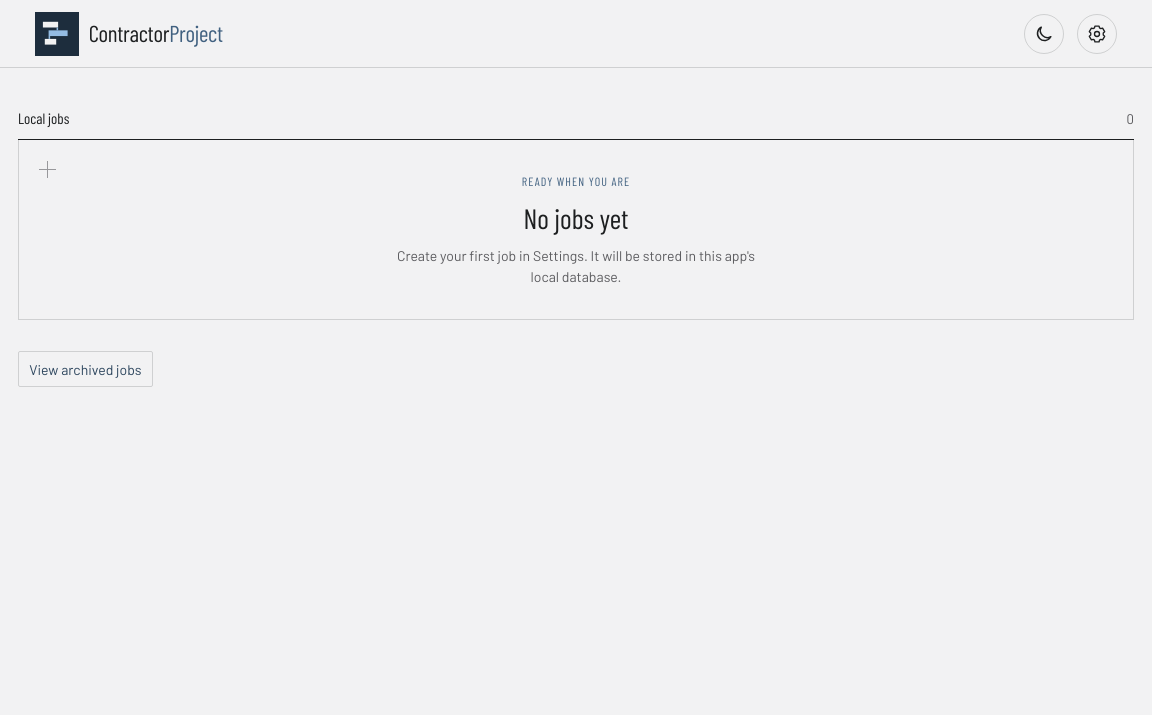
Scenario: task workspace › opens a newly created job directly to Add task and actionable schedule setup
The image size is (1152, 715).
Click the button named "Open settings" at (1098, 34), box [1078, 14, 1118, 54]
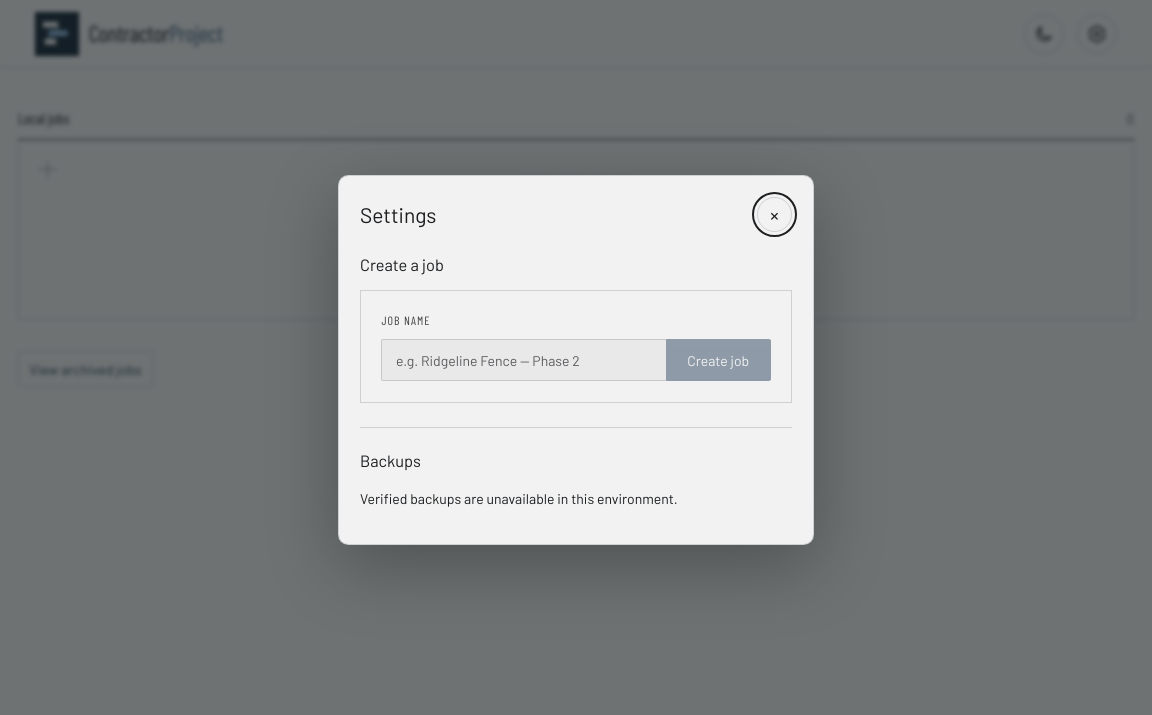
Type "Oak House" into the field labelled "Job name" at (524, 360), box [381, 339, 666, 381]
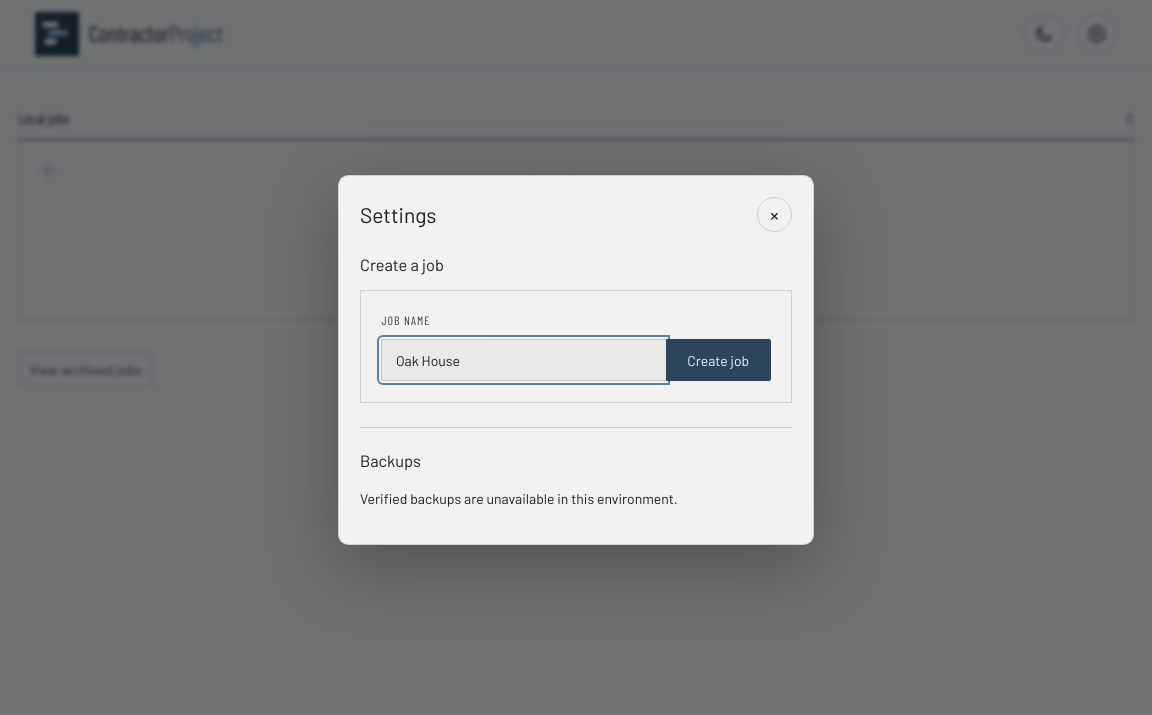
Click the button "Create job" at (718, 360), box [666, 339, 771, 381]
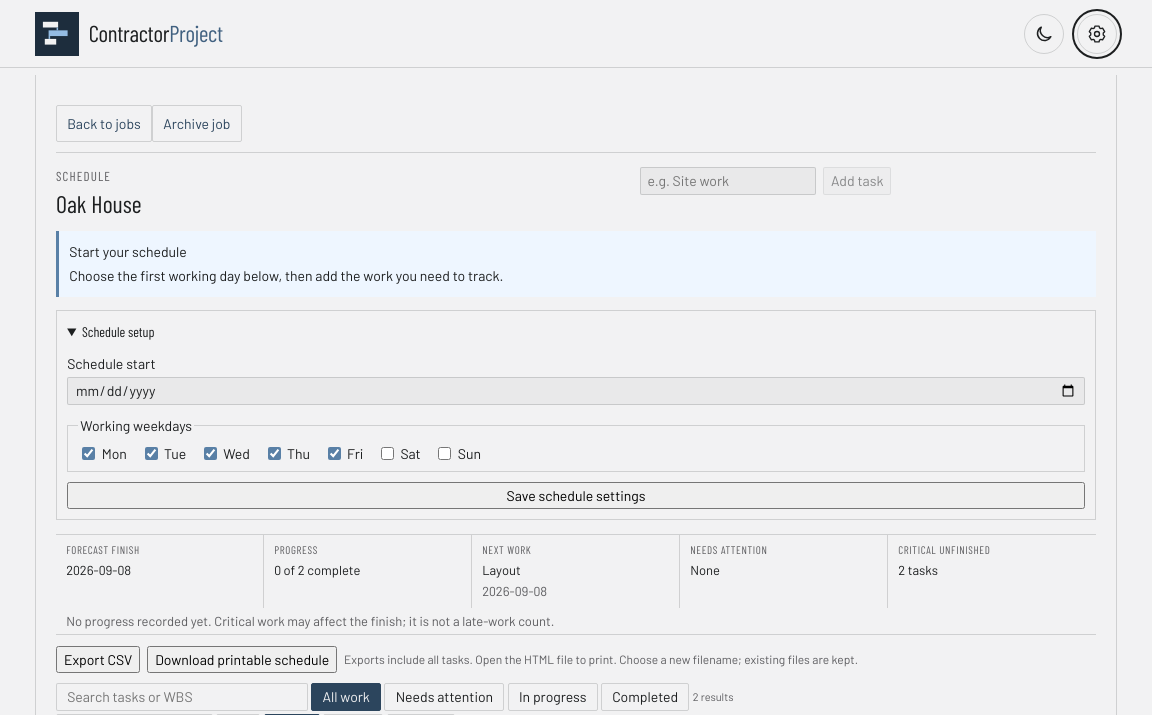
Expected: the button "Add task" is shown, [823, 167, 891, 195]
Expected: the text "Start your schedule" is shown, [69, 243, 187, 260]
